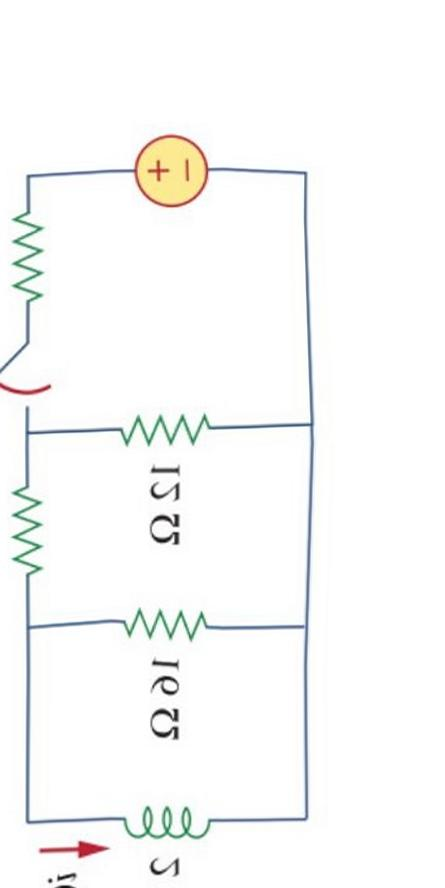Battery: (111, 101, 236, 247)
